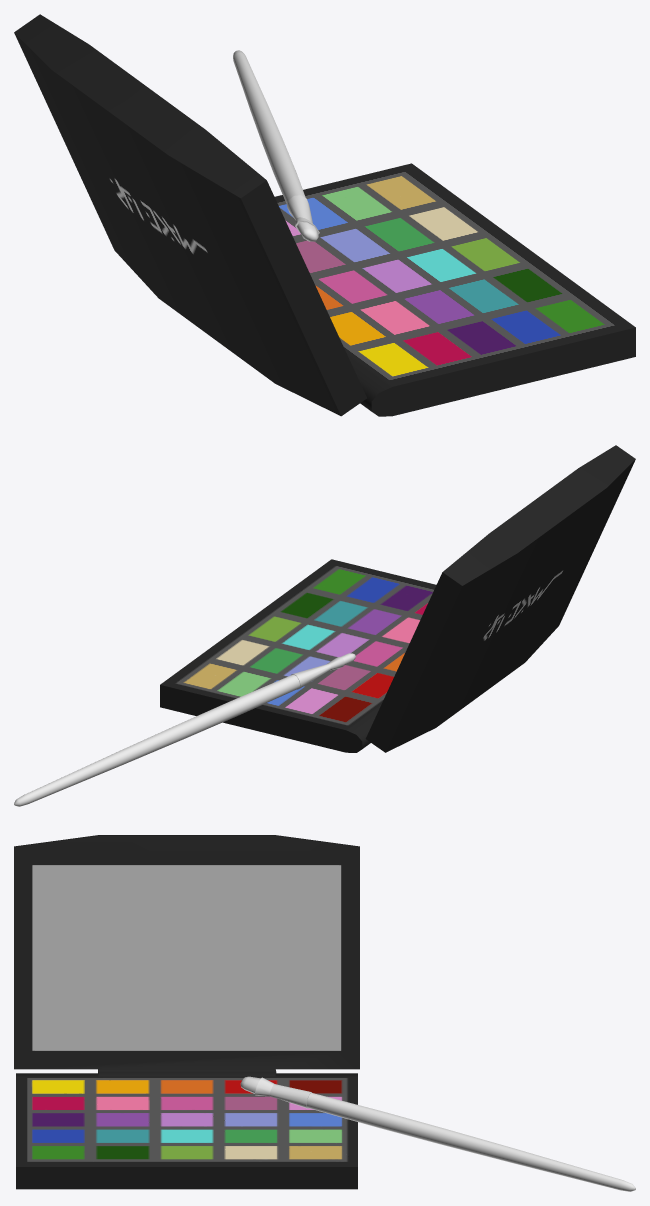
The model's file is MakeUpPallete.fbx.
3 renders of one model, top to bottom at view 1: azimuth 30°, elevation 25°; view 2: azimuth 150°, elevation 25°; view 3: azimuth 270°, elevation 25°, orthographic. The views are drawn at different scales.
Visible parts, largest first — view 1: Brush; view 2: Brush; view 3: Brush.
Boxes of the visible parts, x1,y1,x2,y2 form: Brush: (14, 14, 635, 416); Brush: (14, 445, 635, 806); Brush: (14, 835, 635, 1191).
Size of the model in its own units: 15.1 by 9.53 by 25.17.
